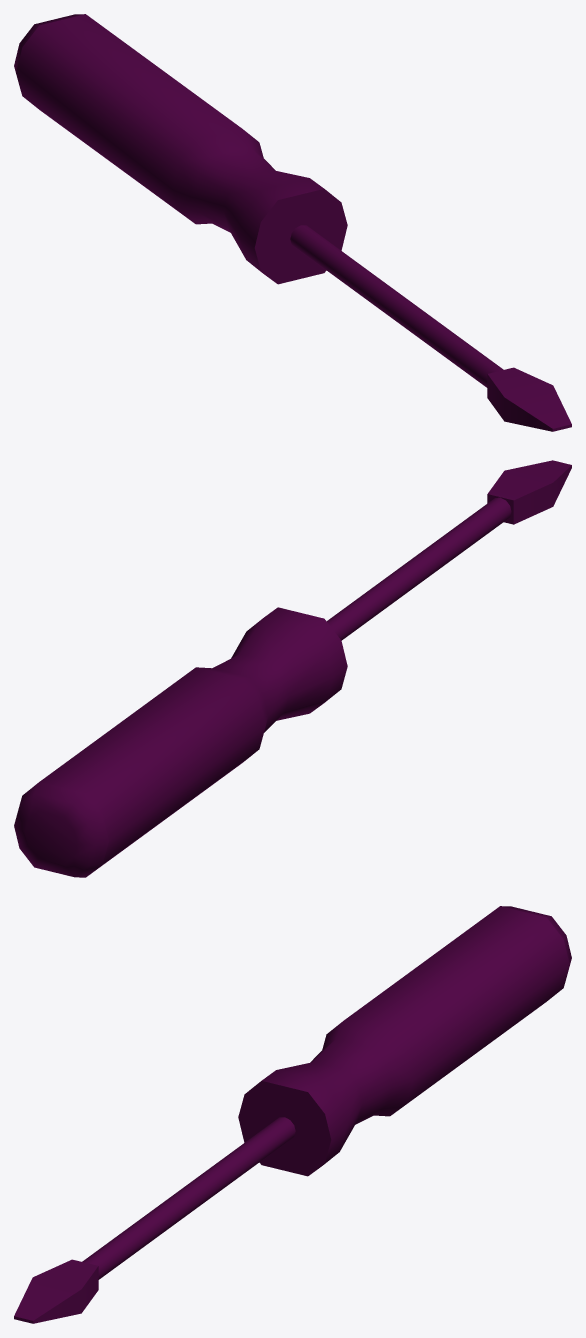
File: Workshop_Tool3.fbx
The picture shows the model from 3 angles, top to bottom: view 1: azimuth 30°, elevation 25°; view 2: azimuth 150°, elevation 25°; view 3: azimuth 330°, elevation 25°; orthographic projection.
Parts seen in each view (by area): view 1: Workshop_Tool3; view 2: Workshop_Tool3; view 3: Workshop_Tool3.
Boxes of the visible parts, x1=… form: Workshop_Tool3: x1=14, y1=14, x2=571, y2=431; Workshop_Tool3: x1=14, y1=460, x2=571, y2=877; Workshop_Tool3: x1=14, y1=906, x2=571, y2=1323.
Size of the model in its own units: 2.54 by 2.2 by 24.12.
